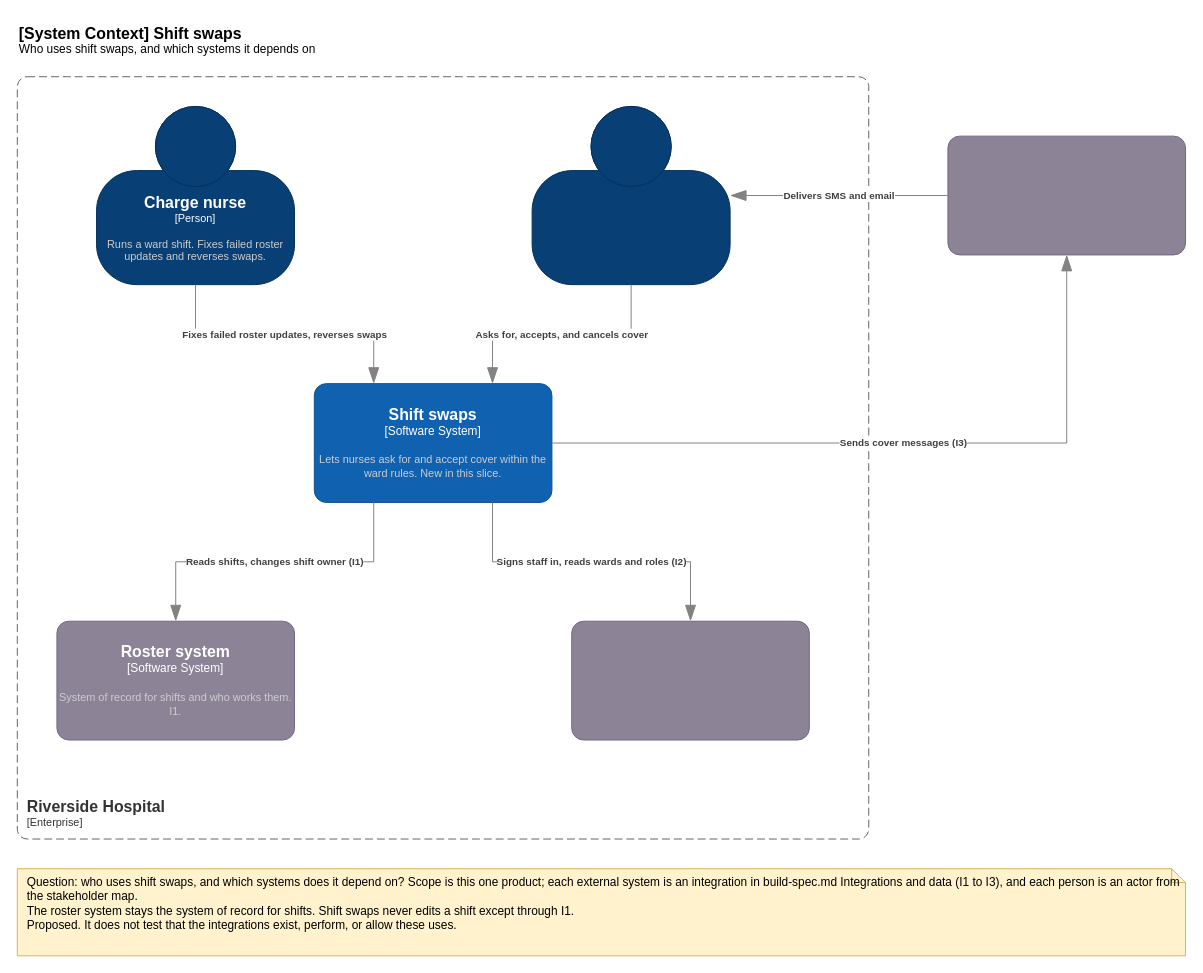
Some shapes in this 1203 by 973 pixel diagram are drawn without their labels. The centre of each missing label's shape, as x and y in pixels:
"Message gateway [Software System] Sends SMS and email for the hospital. I3." belongs at pixel 1066 195.
"Staff directory [Software System] Single sign-on, wards, and roles. I2." belongs at pixel 690 680.
"Ward nurse [Person] Asks a colleague to cover a shift, or covers one." belongs at pixel 630 195.
